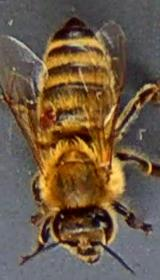varroa_mite: (35, 106, 58, 130)
